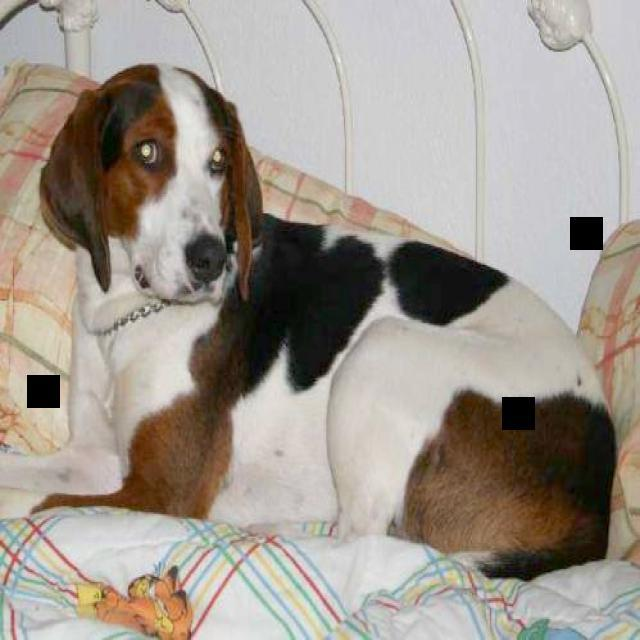adult_dog: (6, 52, 621, 585)
